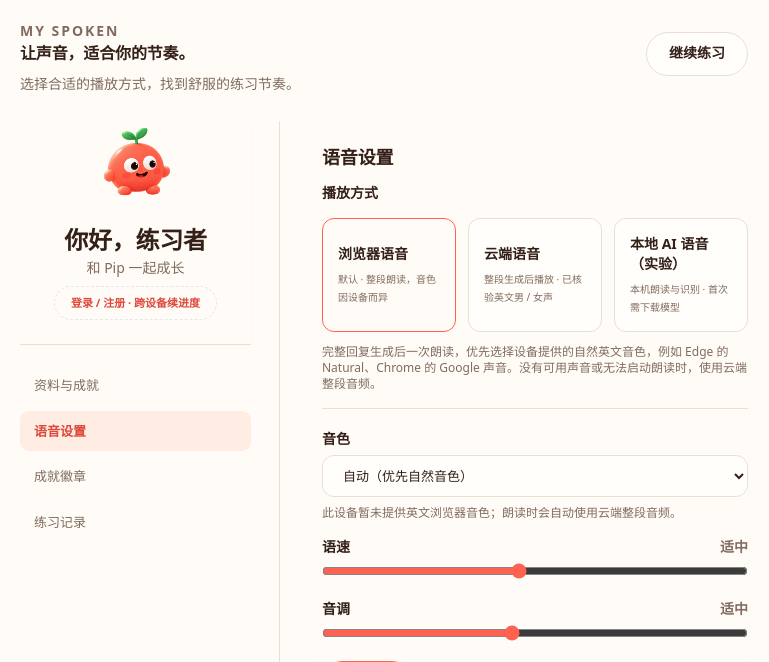
keeps the settings link and all three voice engines on the separate settings tab
Check: the heading "让声音，适合你的节奏。" is shown, box [20,42,194,64]
Check: the button "云端语音 整段生成后播放 · 已核验英文男 / 女声" is shown, box [468,218,602,332]
Click the link "资料与成就". click: (66, 385)
box: [34,376,99,394]
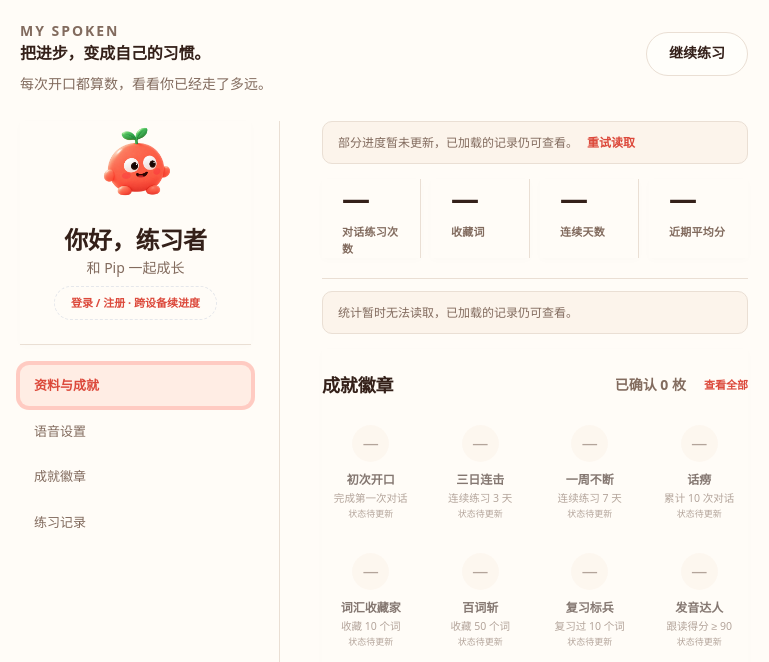
Check: the heading "成就徽章" is shown, box [322,371,393,399]
Click the button with aria-label "查看全部徽章". click: (726, 385)
box: [704,376,748,394]
(page scrolled)
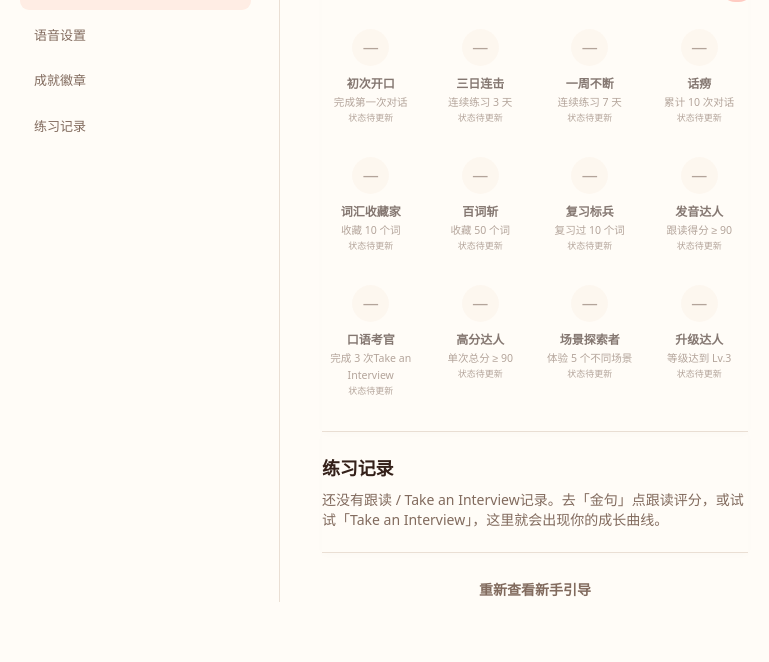
Check: the text "升级达人" is shown, box [675,332,723,348]
